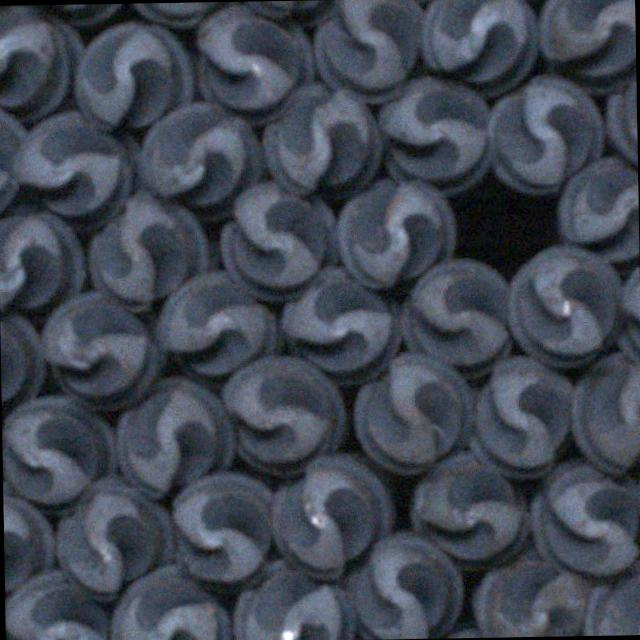tool_b: (220, 354, 345, 480), (267, 454, 391, 578), (86, 185, 209, 309), (484, 75, 604, 198), (280, 260, 398, 384), (54, 474, 174, 595), (39, 289, 160, 409), (196, 1, 312, 126), (114, 378, 234, 498), (218, 180, 336, 302), (1, 395, 120, 515), (352, 352, 473, 469), (261, 82, 380, 200), (508, 245, 624, 366), (398, 259, 516, 377), (334, 177, 457, 289), (138, 98, 263, 206), (374, 76, 492, 190), (13, 110, 133, 222), (468, 356, 578, 478), (408, 452, 526, 564), (529, 455, 640, 574), (156, 271, 276, 378), (74, 20, 194, 126), (348, 532, 463, 640), (172, 470, 276, 580), (314, 0, 422, 104), (420, 0, 536, 94), (232, 556, 356, 640), (474, 550, 589, 638), (536, 0, 636, 96), (0, 4, 85, 116), (110, 563, 231, 640), (556, 154, 639, 266), (569, 353, 640, 477), (0, 210, 83, 309), (4, 569, 113, 640), (3, 494, 56, 598)
void: (449, 172, 561, 277)
